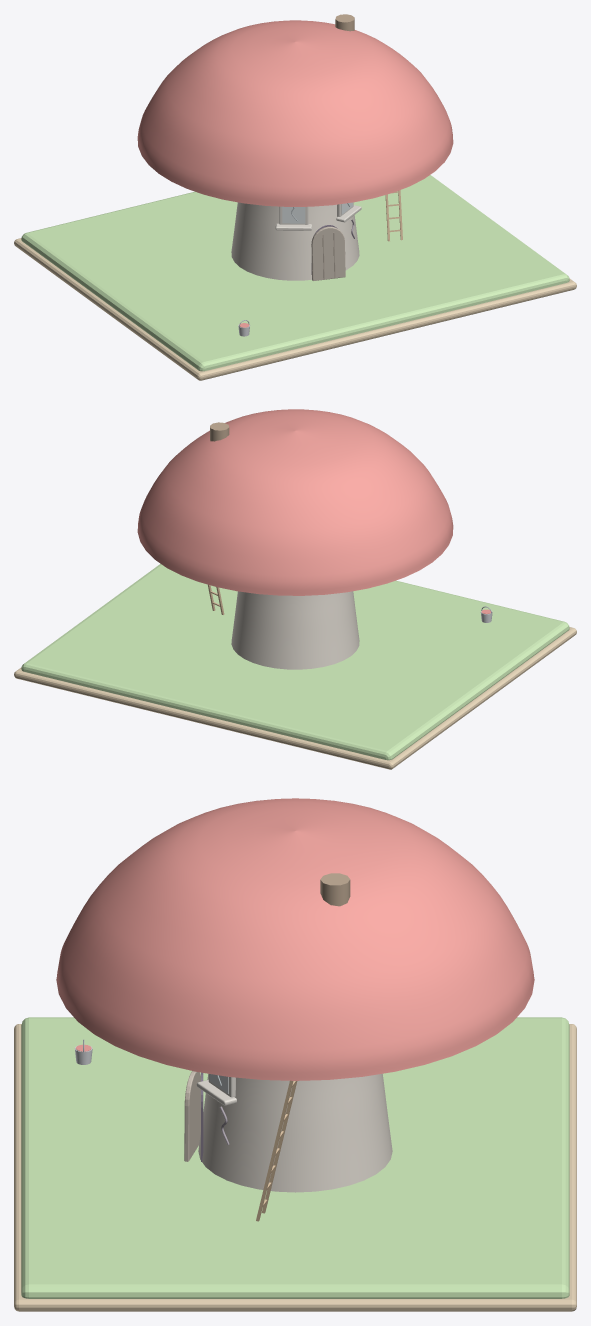
File: building_forest_L03.glb
The picture shows the model from 3 angles, top to bottom: view 1: azimuth 30°, elevation 25°; view 2: azimuth 150°, elevation 25°; view 3: azimuth 270°, elevation 25°; orthographic projection. The views are drawn at different scales.
Visible parts, largest first — view 1: forest_L3; view 2: forest_L3; view 3: forest_L3.
Boxes of the visible parts, x1,y1,x2,y2 form: forest_L3: (14, 14, 576, 380); forest_L3: (14, 409, 576, 769); forest_L3: (14, 798, 576, 1311).
Size of the model in its own units: 26.61 by 15.17 by 22.6.
